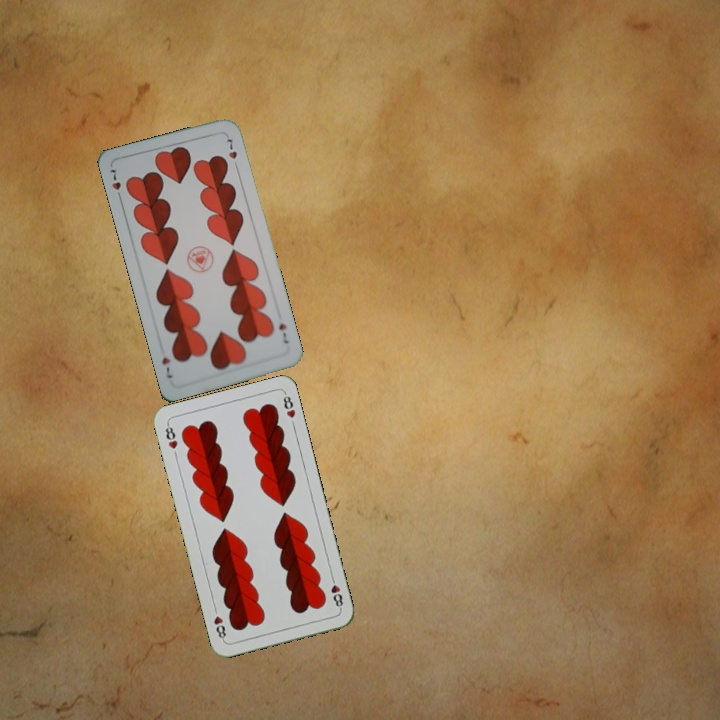H7: (106, 165, 125, 203), (275, 319, 291, 346)
H8: (327, 572, 346, 612), (161, 420, 180, 452)
